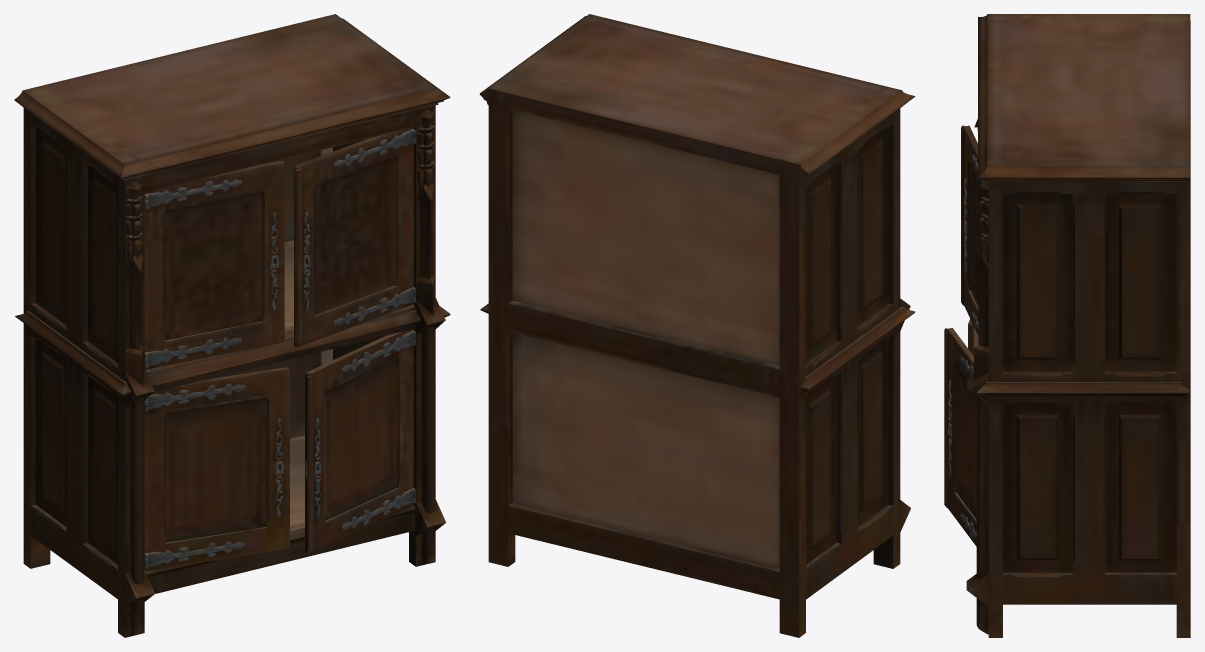
Rendered from wardrobe-gothic.lite.8a662e75.glb.
The picture shows the model from 3 angles, left to right: view 1: azimuth 30°, elevation 25°; view 2: azimuth 150°, elevation 25°; view 3: azimuth 270°, elevation 25°; orthographic projection.
Parts seen in each view (by area): view 1: model; view 2: model; view 3: model.
Part boxes in pixels (x1,y1,x2,y2): model: [14, 14, 450, 637]; model: [479, 14, 915, 637]; model: [944, 14, 1190, 637].
Size of the model in its own units: 1.72 by 2.36 by 1.12.
1 material, 1 textured.
